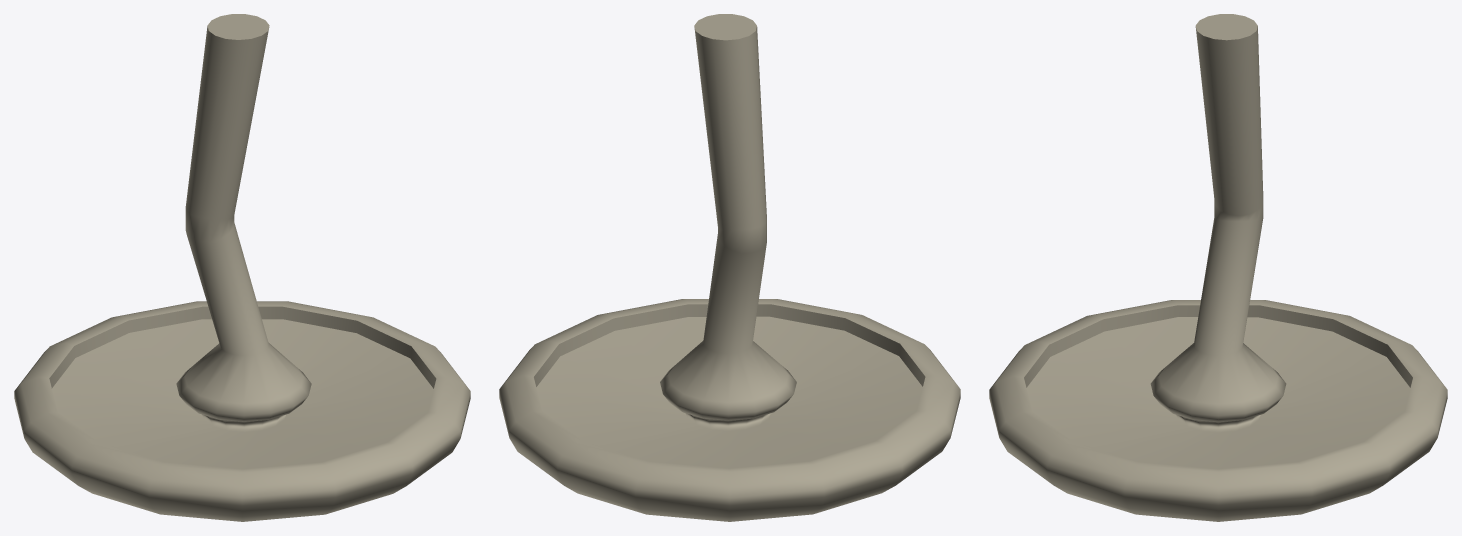
Rendered from MushLow.fbx.
The picture shows the model from 3 angles, left to right: view 1: azimuth 30°, elevation 25°; view 2: azimuth 150°, elevation 25°; view 3: azimuth 270°, elevation 25°; orthographic projection.
Parts seen in each view (by area): view 1: MushroomLow; view 2: MushroomLow; view 3: MushroomLow.
Boxes of the visible parts, x1=… form: MushroomLow: x1=14, y1=14, x2=470, y2=521; MushroomLow: x1=499, y1=14, x2=960, y2=521; MushroomLow: x1=989, y1=14, x2=1447, y2=521.
Bounding box in the file's own units: 16.31 × 18.09 × 16.4.
